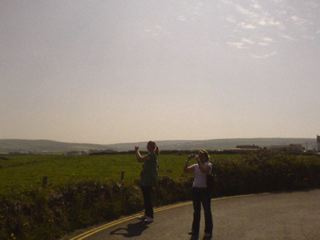person: (183, 150, 215, 240), (135, 141, 160, 224)
